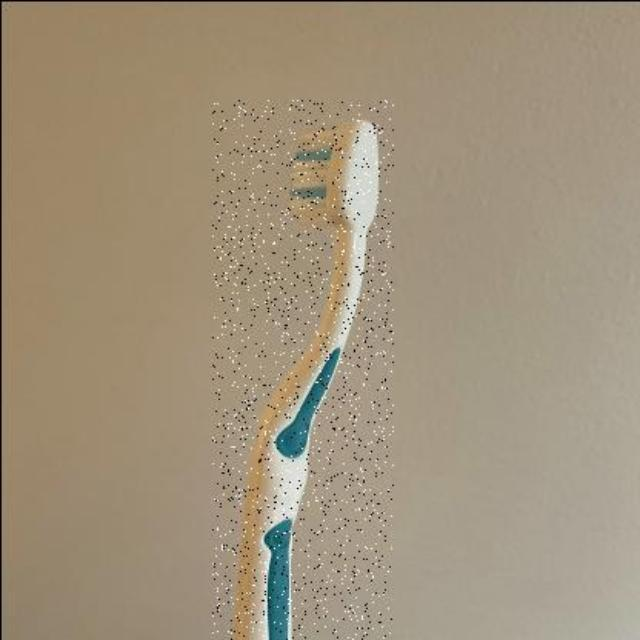toothbrush: (212, 98, 392, 640)
